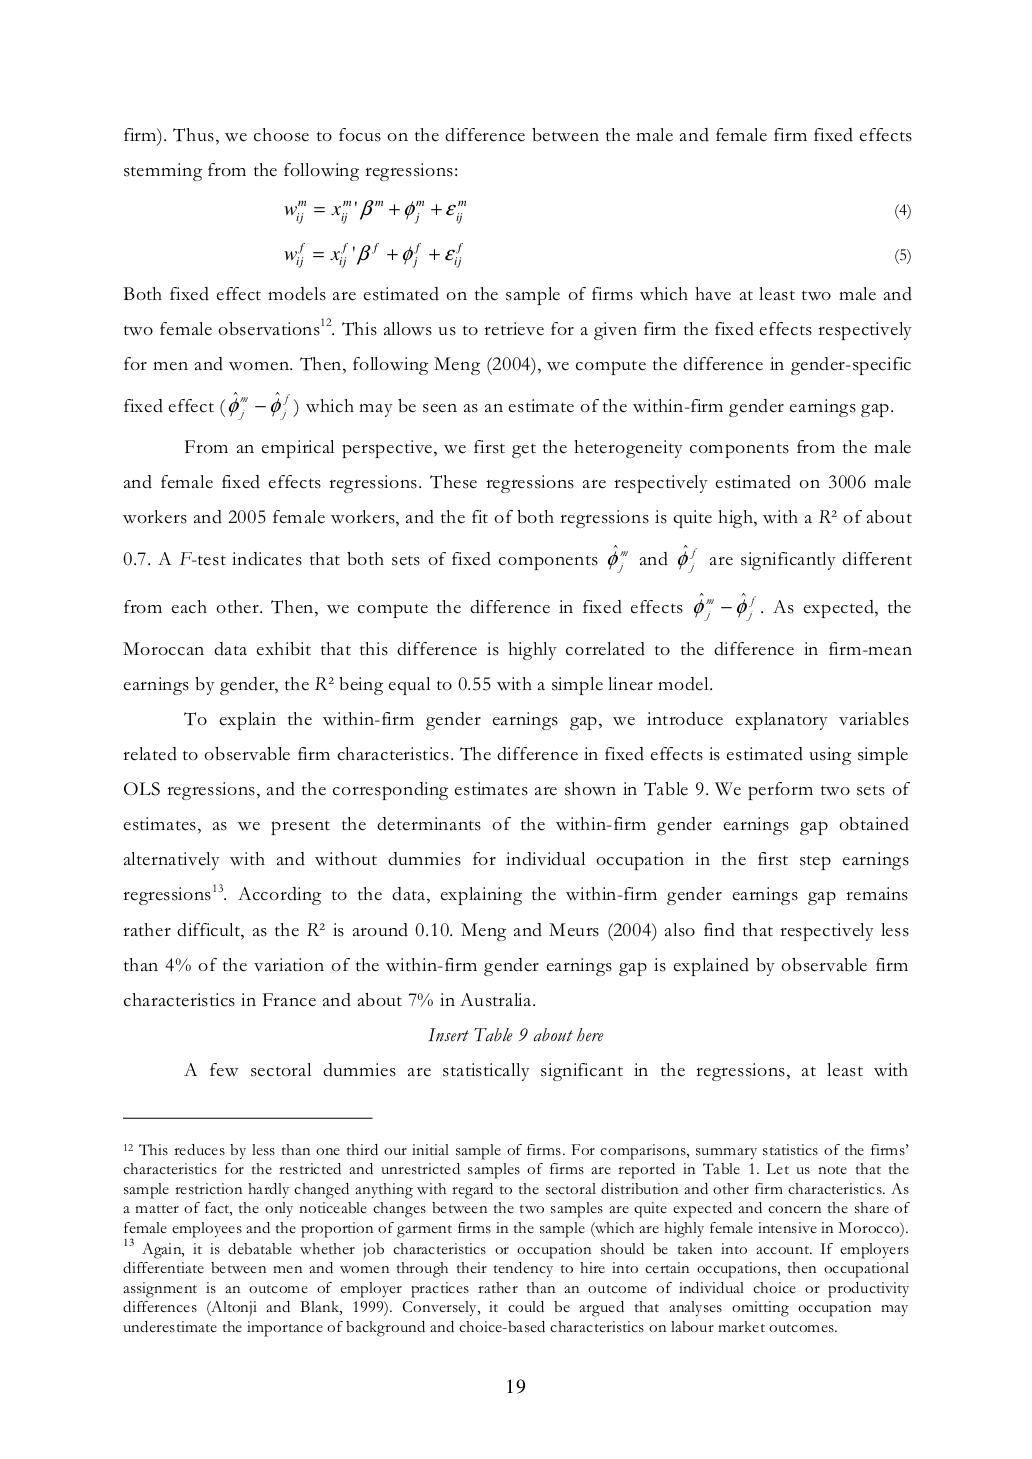formula: (284, 199, 910, 224), (284, 242, 910, 268)
